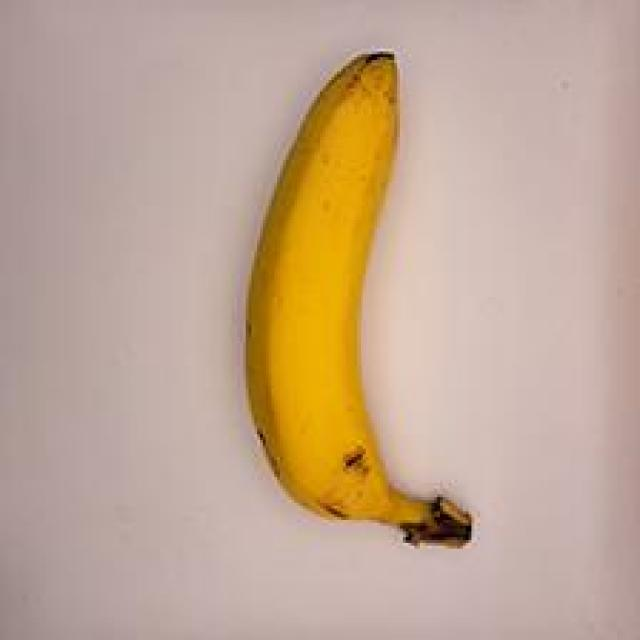ripe: (210, 41, 511, 556)
